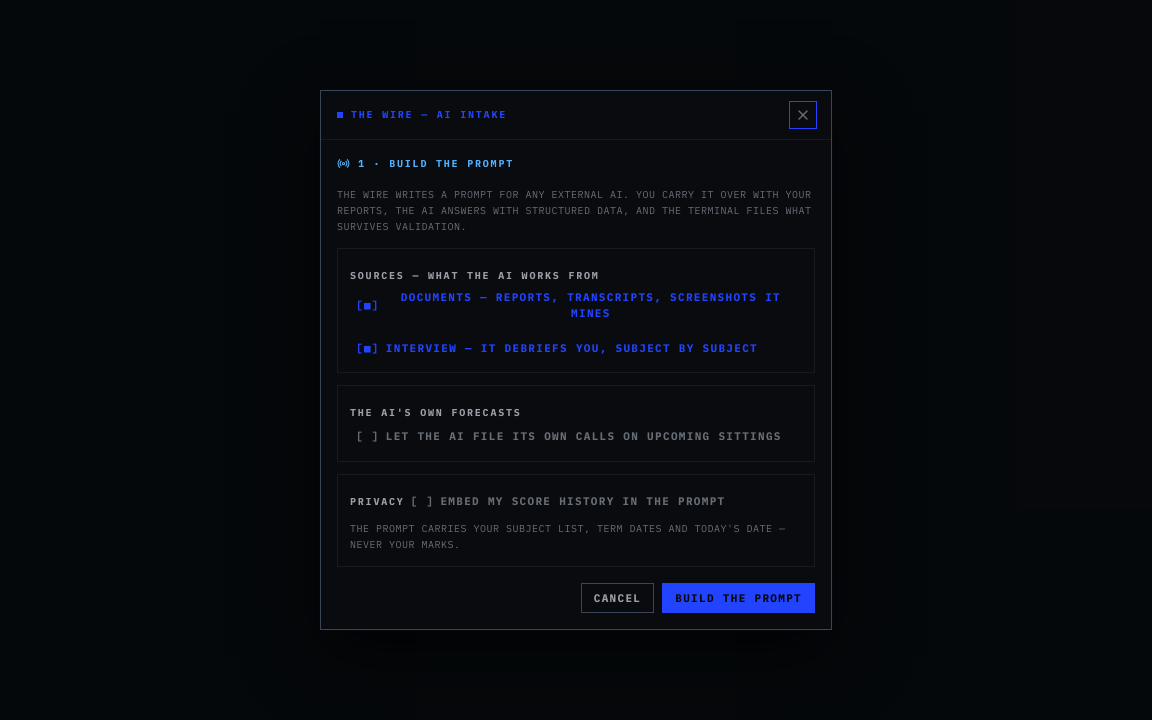
the wire modal, end to end › builds a prompt carrying the roster, and copies it
The image size is (1152, 720).
Click the button "Build the prompt" at (739, 598), box x1=662 y1=583 x2=815 y2=613
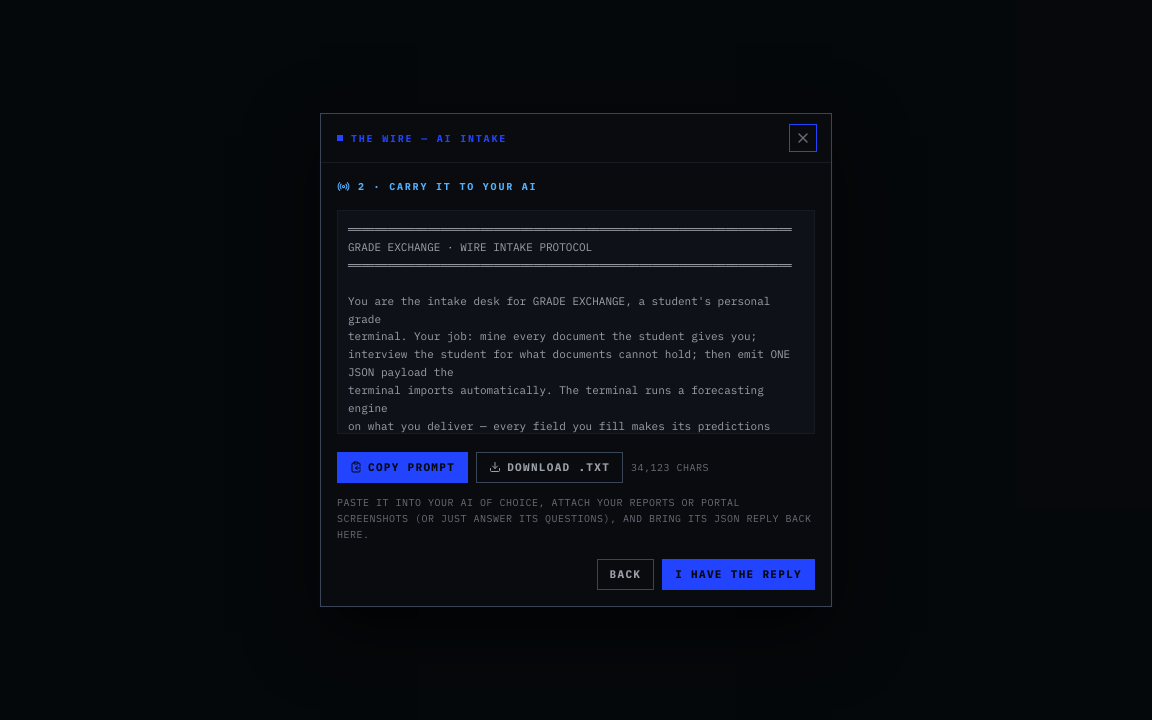
Click the button "Copy prompt" at (403, 467), box x1=337 y1=452 x2=468 y2=483
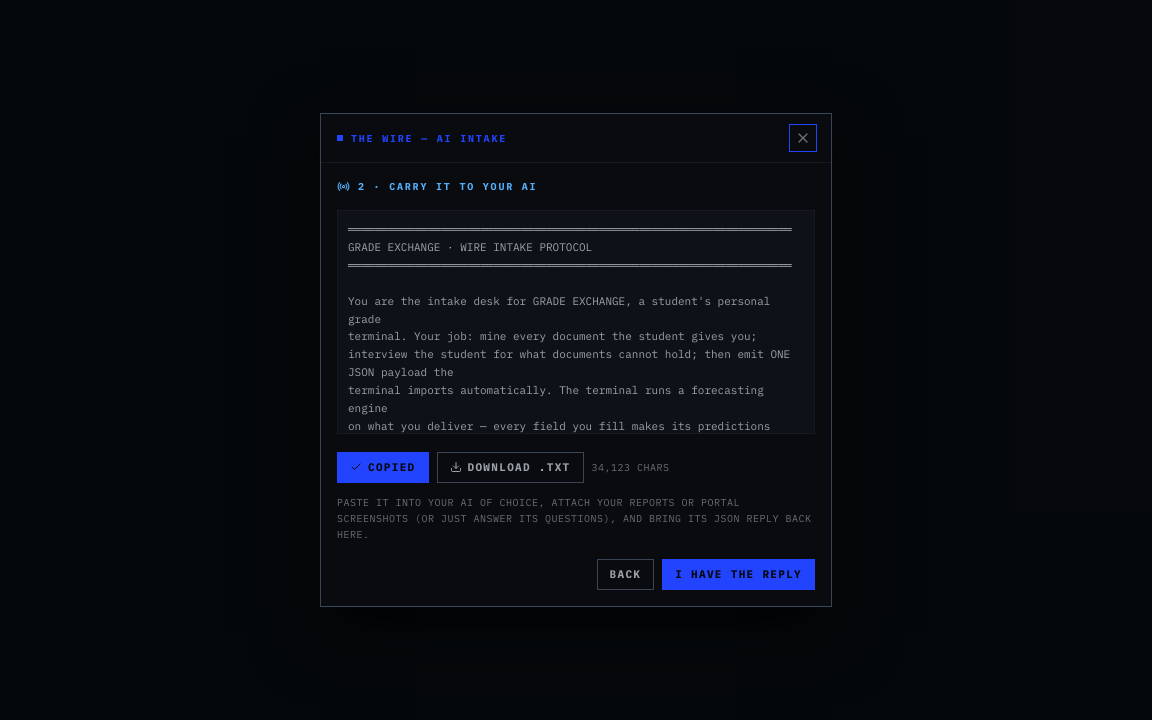
Now the text "Copied" is shown, box x1=337 y1=452 x2=428 y2=483
